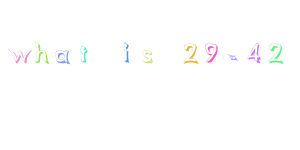-: (225, 50, 240, 63)
2: (268, 40, 285, 66), (182, 41, 200, 64)
4: (245, 40, 263, 66)
9: (204, 41, 219, 64)
a: (54, 48, 70, 63)
h: (33, 39, 50, 64)
i: (120, 40, 133, 64)
s: (141, 47, 155, 65)
t: (77, 45, 88, 64)
w: (7, 46, 31, 65)
